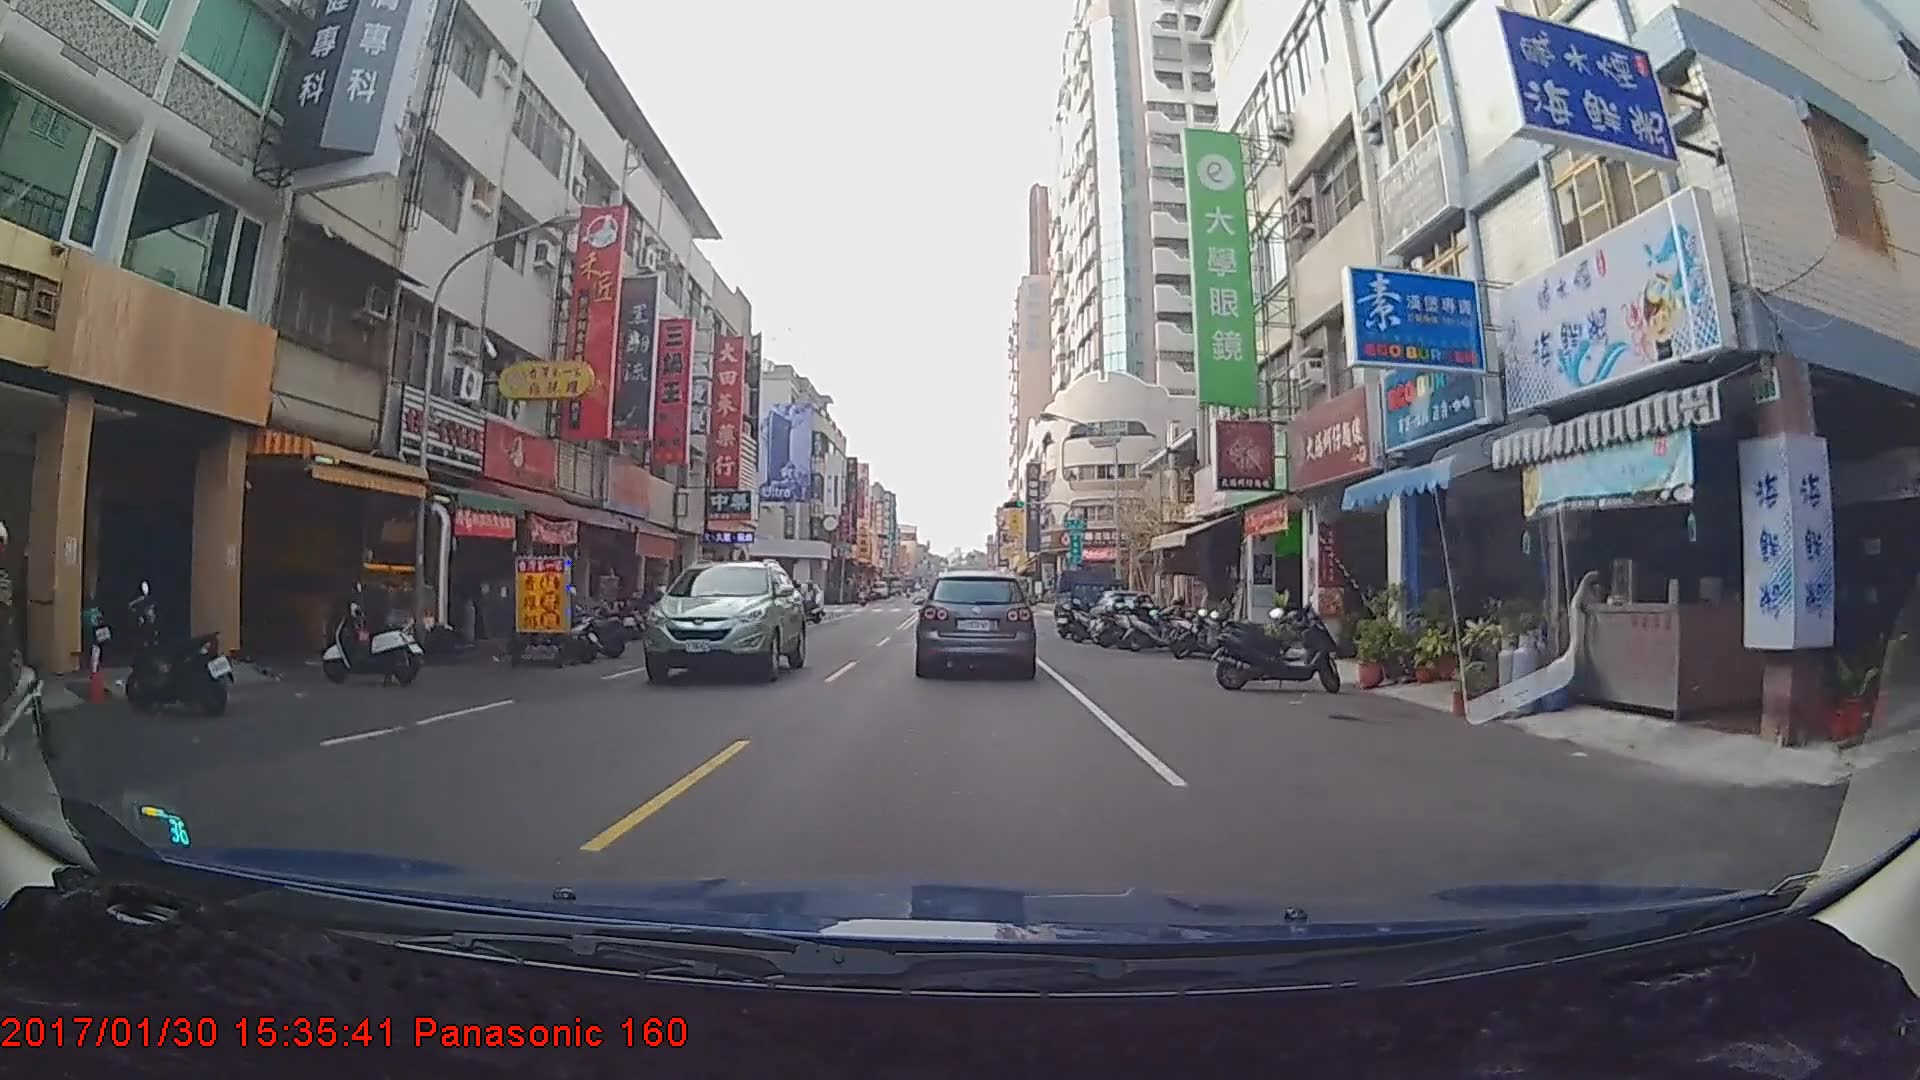vehicle: (642, 558, 804, 684), (916, 568, 1035, 676), (1056, 568, 1131, 634)
